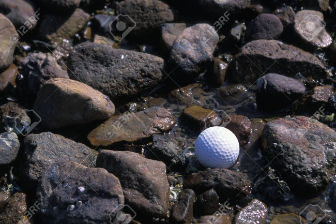stone: (187, 119, 246, 174)
